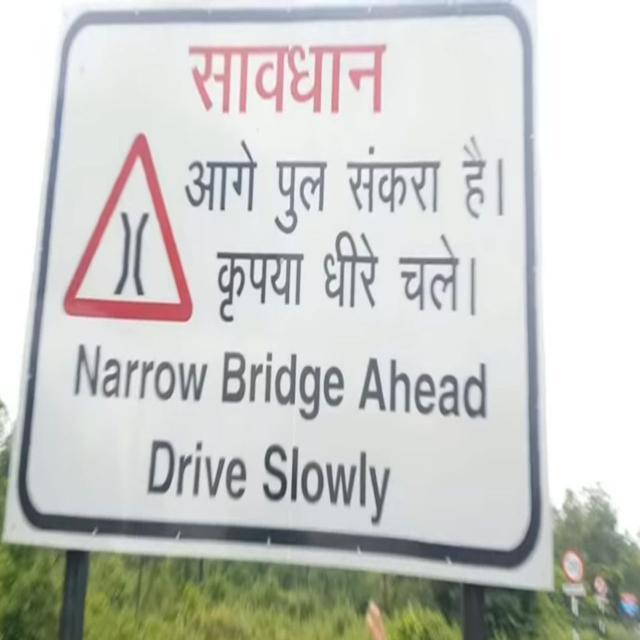narrow bridge ahead: (51, 128, 207, 329)
